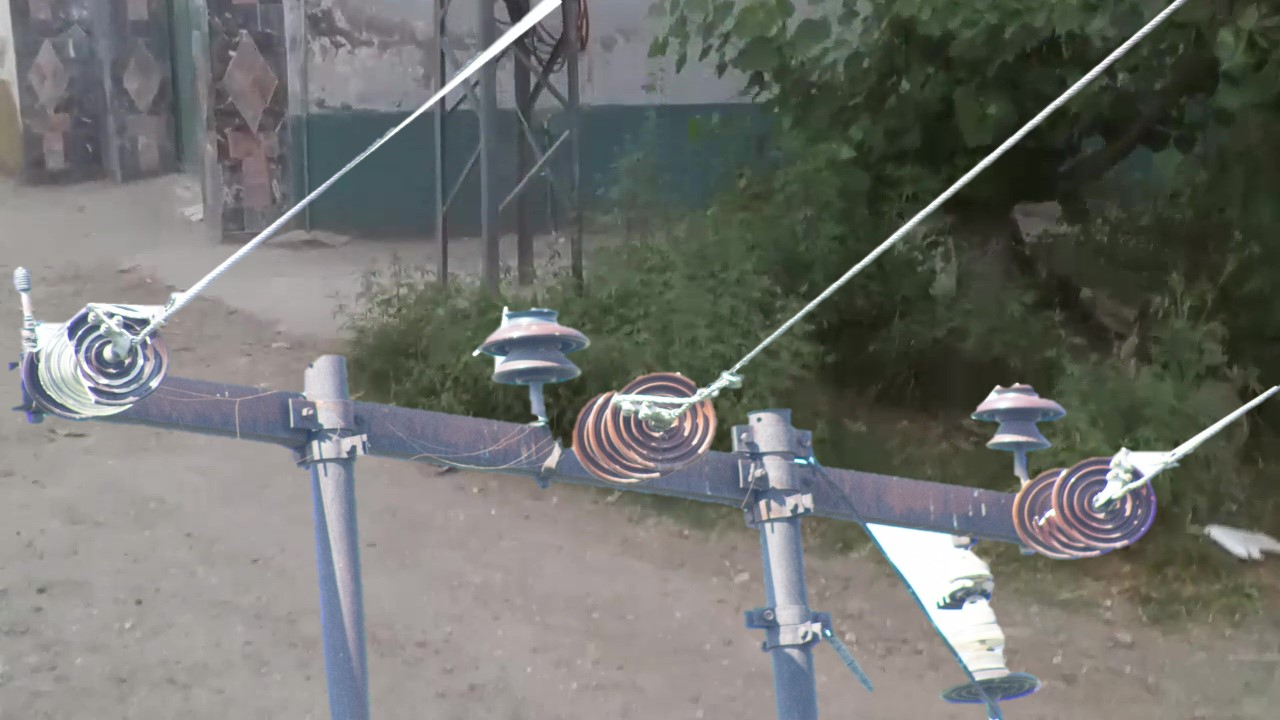defect_disc: (63, 300, 173, 414)
insulator_disc: (605, 365, 719, 479), (1049, 449, 1166, 556)
